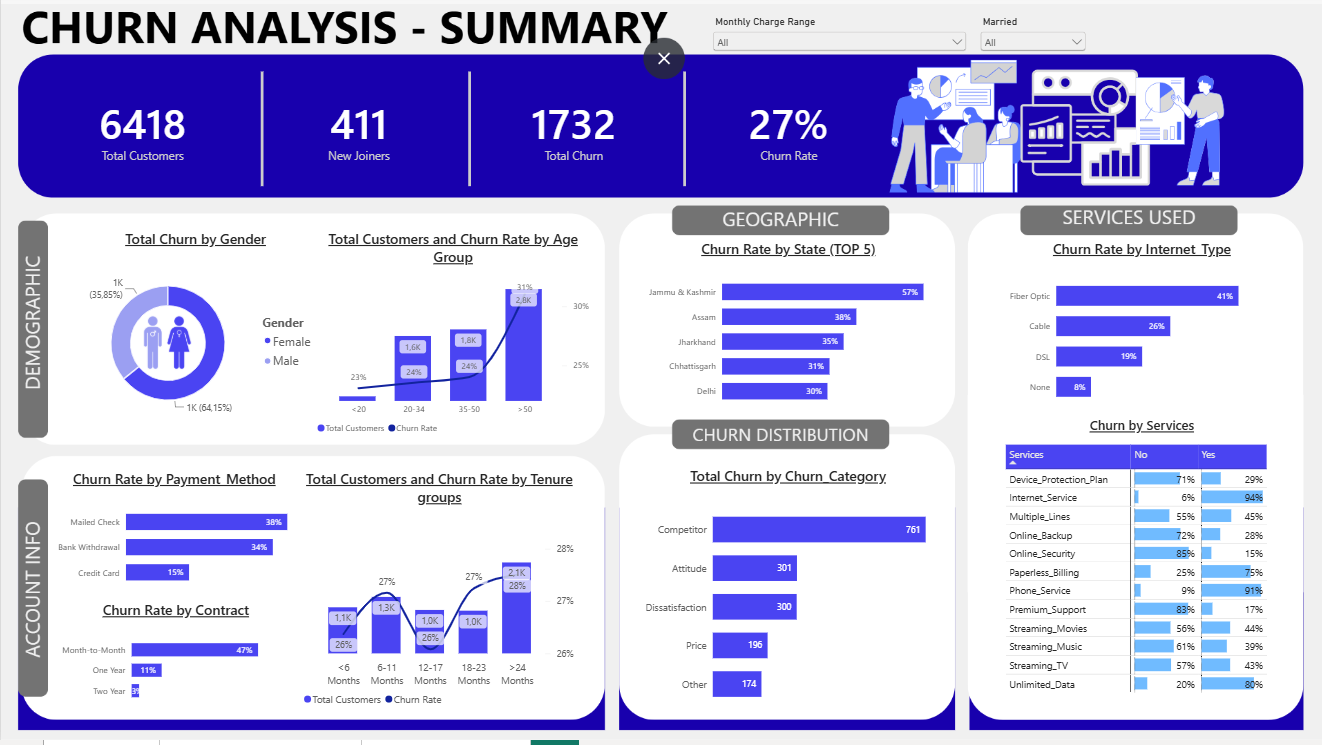

The page's visual inventory and layout, read from the dashboard file:
{"tool":"powerbi","page":{"name":"Summary","canvas":[1920,1080],"ordinal":0},"visuals":[{"type":"image","box":[0,15,1920,1065],"z":1000},{"type":"image","box":[192,426,98,156],"z":1500},{"type":"card","fields":{"Values":["tbl_mesures.Total Customers"]},"box":[66,126,279.8,139.2],"z":2000},{"type":"card","fields":{"Values":["tbl_mesures.New Joiners"]},"box":[377.3,126,279.8,139.2],"z":3000},{"type":"card","fields":{"Values":["tbl_mesures.Total Churn"]},"box":[688.7,126,279.8,139.2],"z":4000},{"type":"card","fields":{"Values":["tbl_mesures.Churn Rate"]},"box":[1000,126,279.8,139.2],"z":5000},{"type":"donutChart","fields":{"Category":["prod_Churn.Gender"],"Y":["tbl_mesures.Total Churn"]},"box":[88,326,386,318],"z":6000},{"type":"lineStackedColumnComboChart","fields":{"Category":["mapping_AgeGrp.Age Group"],"Y":["tbl_mesures.Total Customers"],"Y2":["tbl_mesures.Churn Rate"]},"box":[442,326,426,332],"z":7000},{"type":"clusteredBarChart","fields":{"Category":["prod_Churn.Payment_Method"],"Y":["tbl_mesures.Churn Rate"]},"box":[58,674,386,208],"z":8000},{"type":"lineStackedColumnComboChart","fields":{"Category":["mapping_TenureGrp.Custom"],"Y":["tbl_mesures.Total Customers"],"Y2":["tbl_mesures.Churn Rate"]},"box":[422,674,426,378],"z":9000},{"type":"clusteredBarChart","title":"Churn Rate by State (TOP 5)","fields":{"Category":["prod_Churn.State"],"Y":["tbl_mesures.Churn Rate"]},"box":[914,340,452,278],"z":10000},{"type":"clusteredBarChart","fields":{"Category":["prod_Churn.Churn_Category"],"Y":["tbl_mesures.Total Churn"]},"box":[908,670,462,388],"z":11000},{"type":"clusteredBarChart","fields":{"Category":["prod_Churn.Contract"],"Y":["tbl_mesures.Churn Rate"]},"box":[65,863.2,376,184],"z":12000},{"type":"clusteredBarChart","fields":{"Category":["prod_Churn.Internet_Type"],"Y":["tbl_mesures.Churn Rate"]},"box":[1438,340,426,278],"z":13000},{"type":"pivotTable","title":"Churn by Services","fields":{"Columns":["prod_services.Status"],"Rows":["prod_services.Services"],"Values":["Sum(prod_services.Churn Status)"]},"box":[1438,598,426,452],"z":14000},{"type":"slicer","fields":{"Values":["prod_Churn.Monthly Charge Status"]},"box":[1026.8,30.6,376,82],"z":15000},{"type":"slicer","fields":{"Values":["prod_Churn.Married"]},"box":[1412.5,30.6,162,68],"z":16000},{"type":"shape","box":[228,112,300,166],"z":17000},{"type":"shape","box":[528,112,300,166],"z":18000},{"type":"shape","box":[840,112,300,166],"z":19000}]}

Visuals, with their boxes in screenshot pixels (x1, y1, x2, y2), scaled from the page's 1920x1080 canvas onto the 1322x745 screenshot:
image: box(0, 10, 1321, 744)
image: box(132, 294, 200, 401)
card - tbl_mesures.Total Customers: box(45, 87, 238, 183)
card - tbl_mesures.New Joiners: box(260, 87, 452, 183)
card - tbl_mesures.Total Churn: box(474, 87, 667, 183)
card - tbl_mesures.Churn Rate: box(689, 87, 881, 183)
donutChart - prod_Churn.Gender x tbl_mesures.Total Churn: box(61, 225, 326, 444)
lineStackedColumnComboChart - mapping_AgeGrp.Age Group x tbl_mesures.Total Customers: box(304, 225, 598, 454)
clusteredBarChart - prod_Churn.Payment_Method x tbl_mesures.Churn Rate: box(40, 465, 306, 608)
lineStackedColumnComboChart - mapping_TenureGrp.Custom x tbl_mesures.Total Customers: box(291, 465, 584, 726)
"Churn Rate by State (TOP 5)" clusteredBarChart: box(629, 235, 941, 426)
clusteredBarChart - prod_Churn.Churn_Category x tbl_mesures.Total Churn: box(625, 462, 943, 730)
clusteredBarChart - prod_Churn.Contract x tbl_mesures.Churn Rate: box(45, 595, 304, 722)
clusteredBarChart - prod_Churn.Internet_Type x tbl_mesures.Churn Rate: box(990, 235, 1283, 426)
"Churn by Services" pivotTable: box(990, 413, 1283, 724)
slicer - prod_Churn.Monthly Charge Status: box(707, 21, 966, 78)
slicer - prod_Churn.Married: box(973, 21, 1084, 68)
shape: box(157, 77, 364, 192)
shape: box(364, 77, 570, 192)
shape: box(578, 77, 785, 192)
